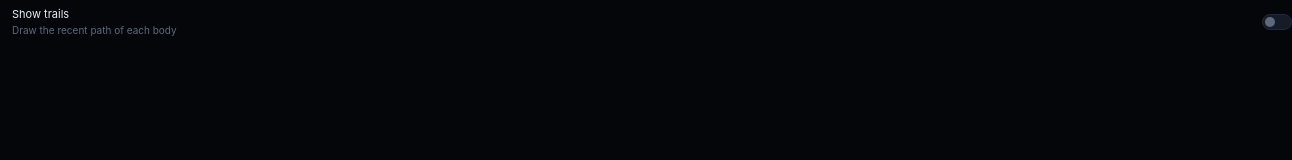
form primitives › ToggleRow toggles its switch with pointer and space key
Click the switch labelled "Show trails Draw the recent path of each body". click: [41, 14]
box: [12,0,1291,44]
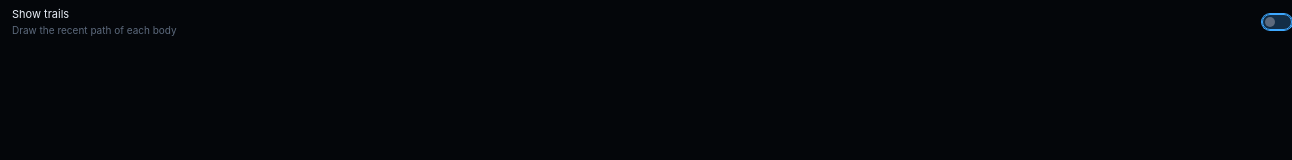
Check: the switch labelled "Show trails Draw the recent path of each body" is checked, box [12,0,1291,44]
Type keys " "
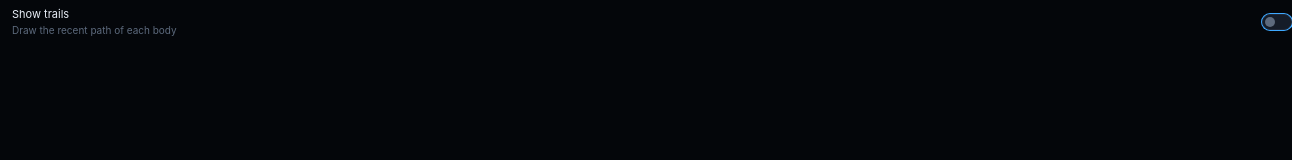
Check: the switch labelled "Show trails Draw the recent path of each body" is not checked, box [12,0,1291,44]
